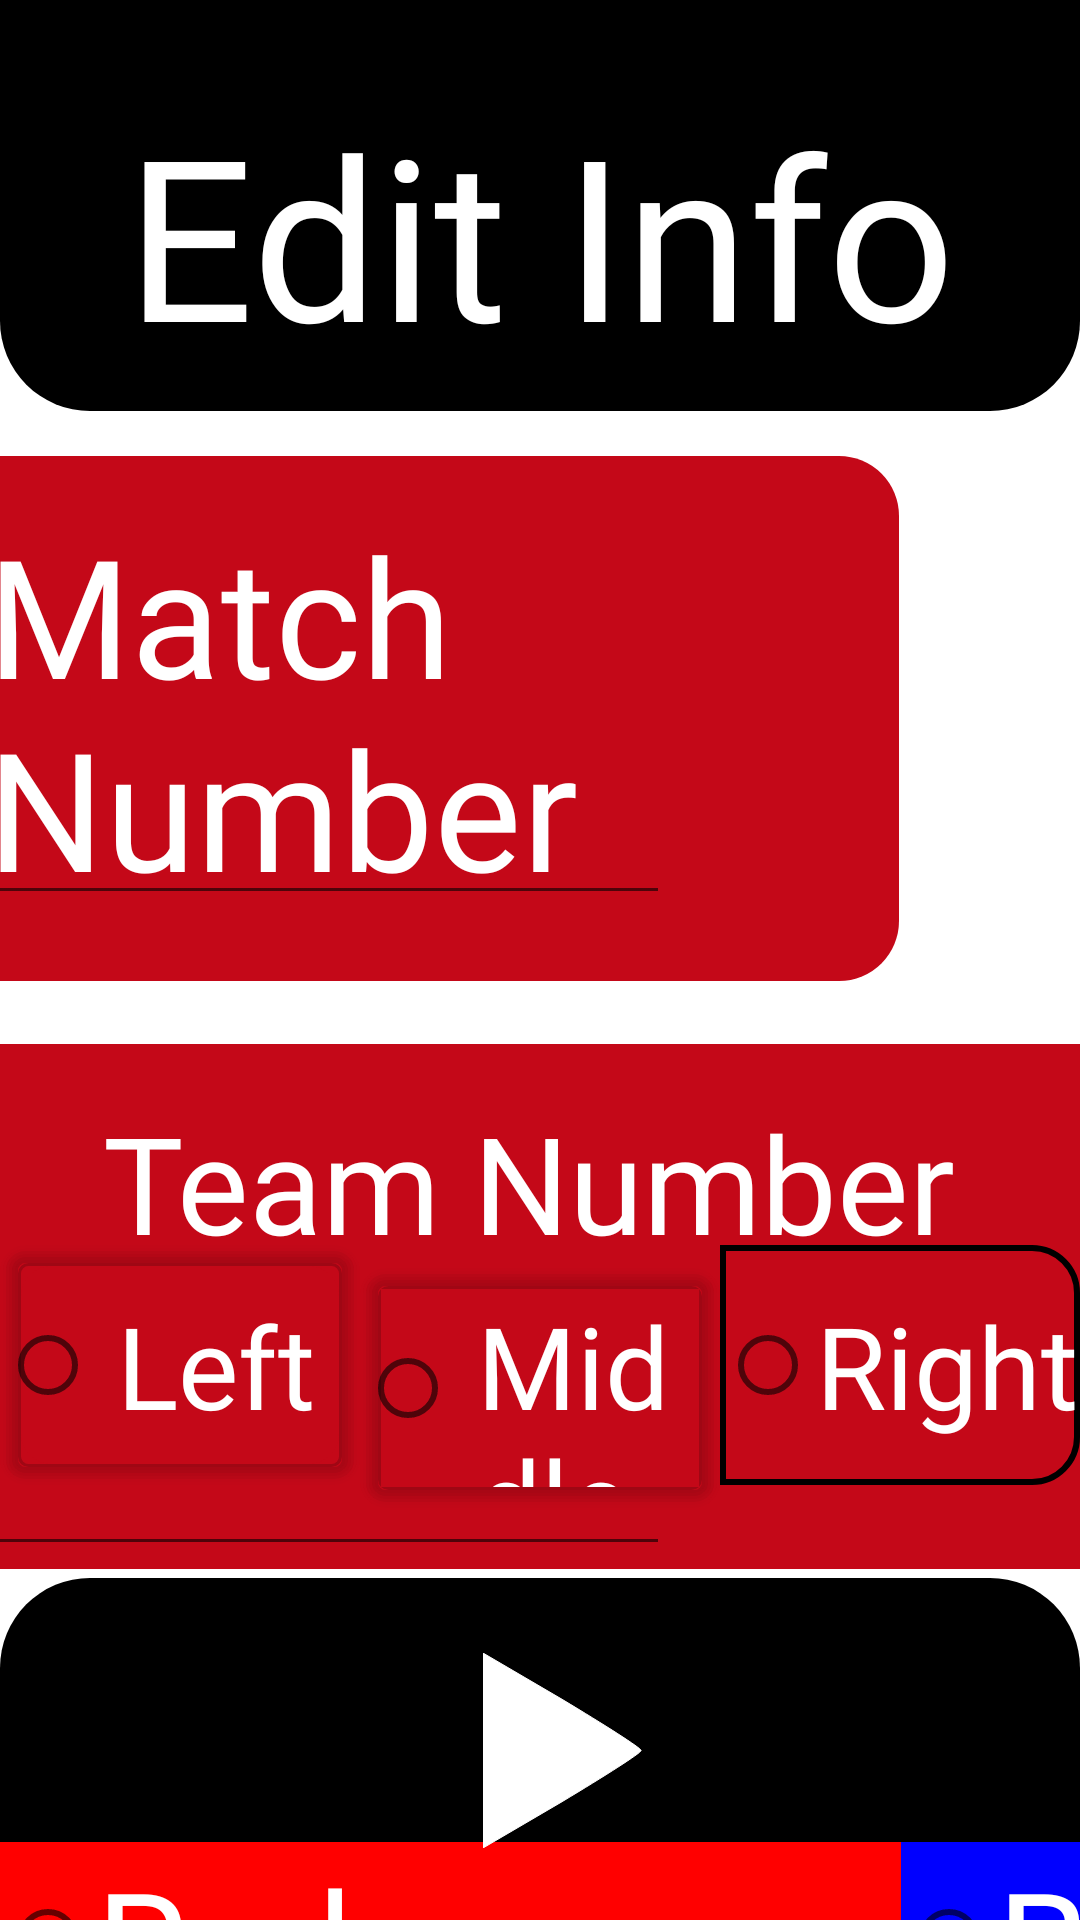

Icon click points for this 1080*1920 phone screenshot, format (x=x, y=y):
triangleforward: (x=565, y=1750)
